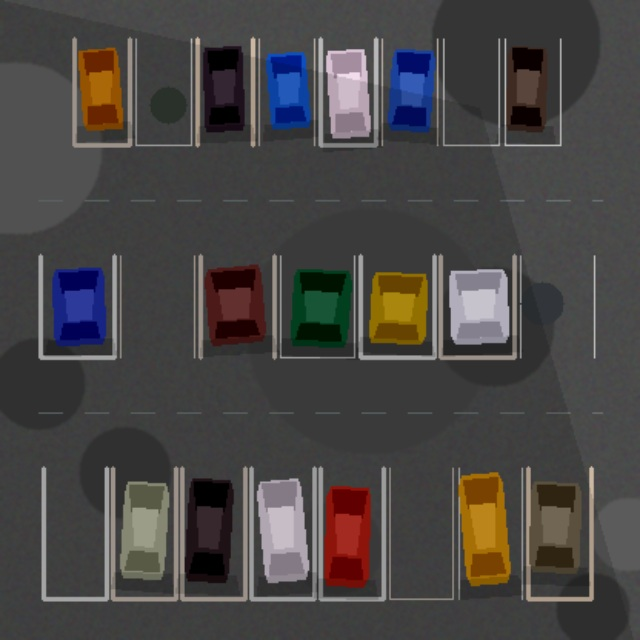space-empty: (43, 468, 106, 598), (389, 468, 452, 598), (120, 255, 194, 357), (520, 255, 594, 357), (135, 38, 191, 145), (443, 38, 498, 145)
space-occupied: (458, 468, 522, 598), (112, 468, 175, 598), (182, 468, 245, 598), (251, 468, 314, 598), (320, 468, 383, 598), (528, 468, 591, 598), (40, 255, 114, 357), (200, 255, 274, 357), (280, 255, 354, 357), (360, 255, 434, 357), (440, 255, 514, 357), (258, 38, 314, 145), (74, 38, 129, 145), (197, 38, 252, 145), (320, 38, 375, 145), (382, 38, 437, 145), (505, 38, 560, 145)
